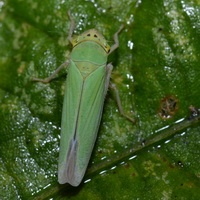insect: (32, 25, 123, 186), (158, 95, 178, 119), (188, 105, 199, 116)
